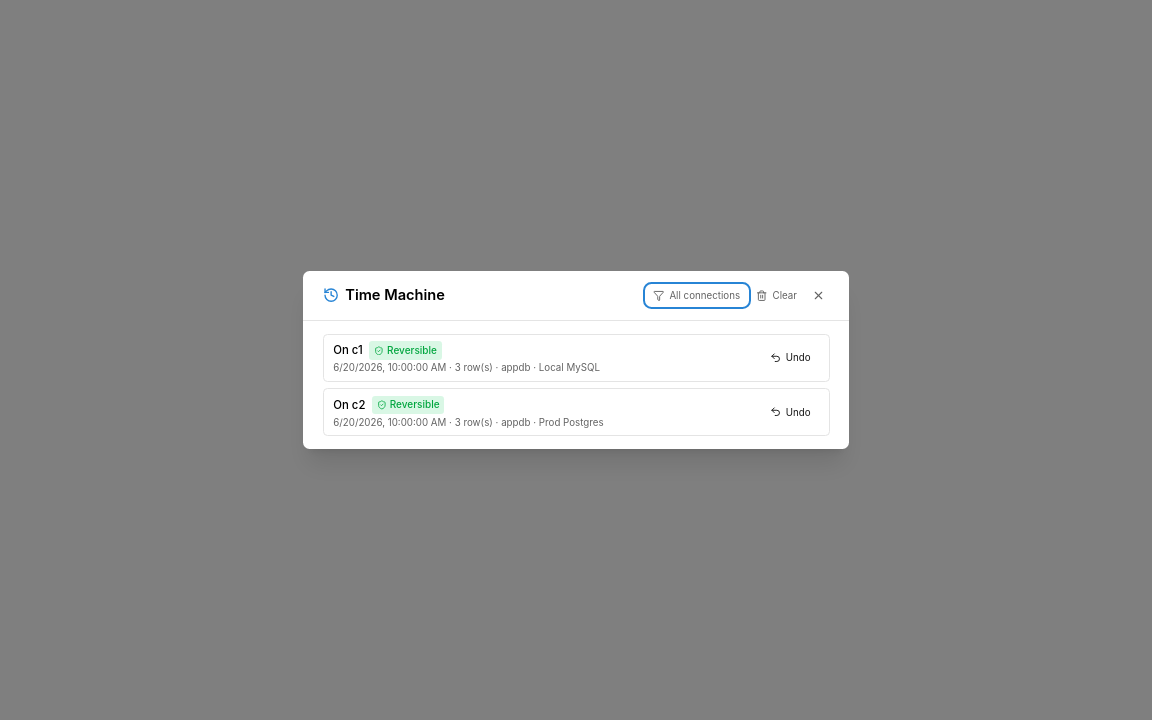
Test: TimelinePanel › filters entries to the chosen connection via the filter dropdown
expect the text "On c1" is shown: met, box x1=333 y1=342 x2=363 y2=359
expect the text "On c2" is shown: met, box x1=333 y1=397 x2=365 y2=413
Note: Open the connection filter dropdown and pick Prod Postgres (c2).
Click the button with aria-label "Filter by connection": click(697, 295) x1=647 y1=286 x2=746 y2=305
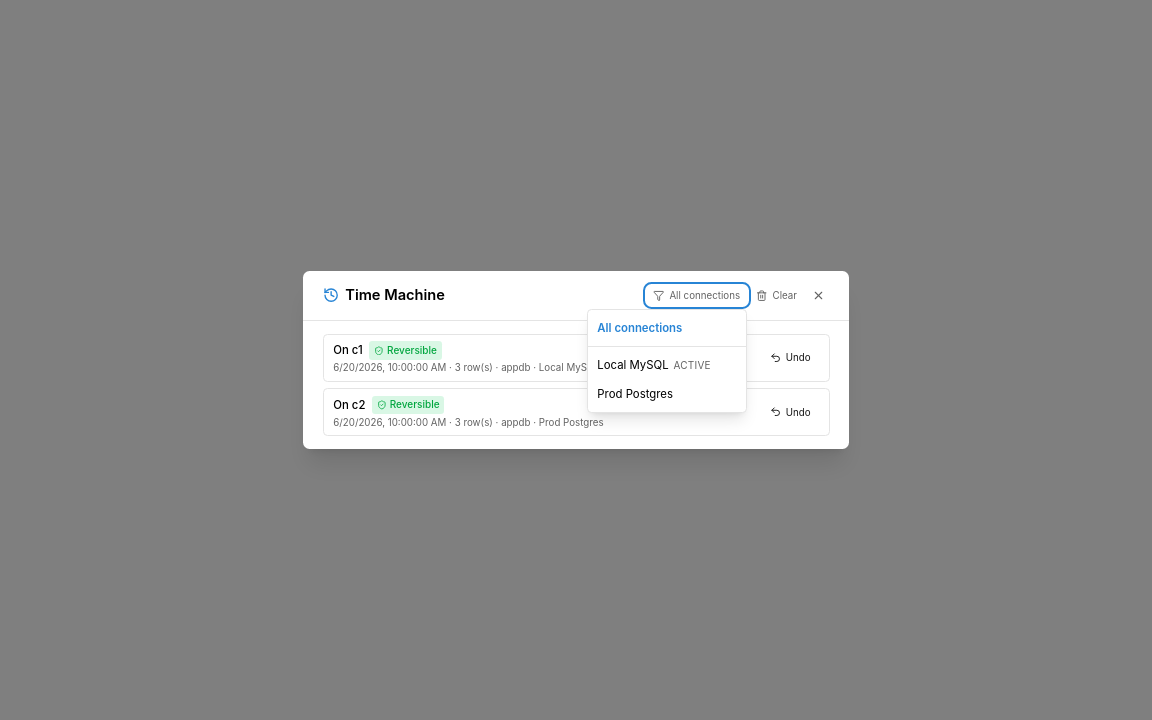
Click the menu item "Prod Postgres": click(667, 394) x1=588 y1=379 x2=746 y2=409
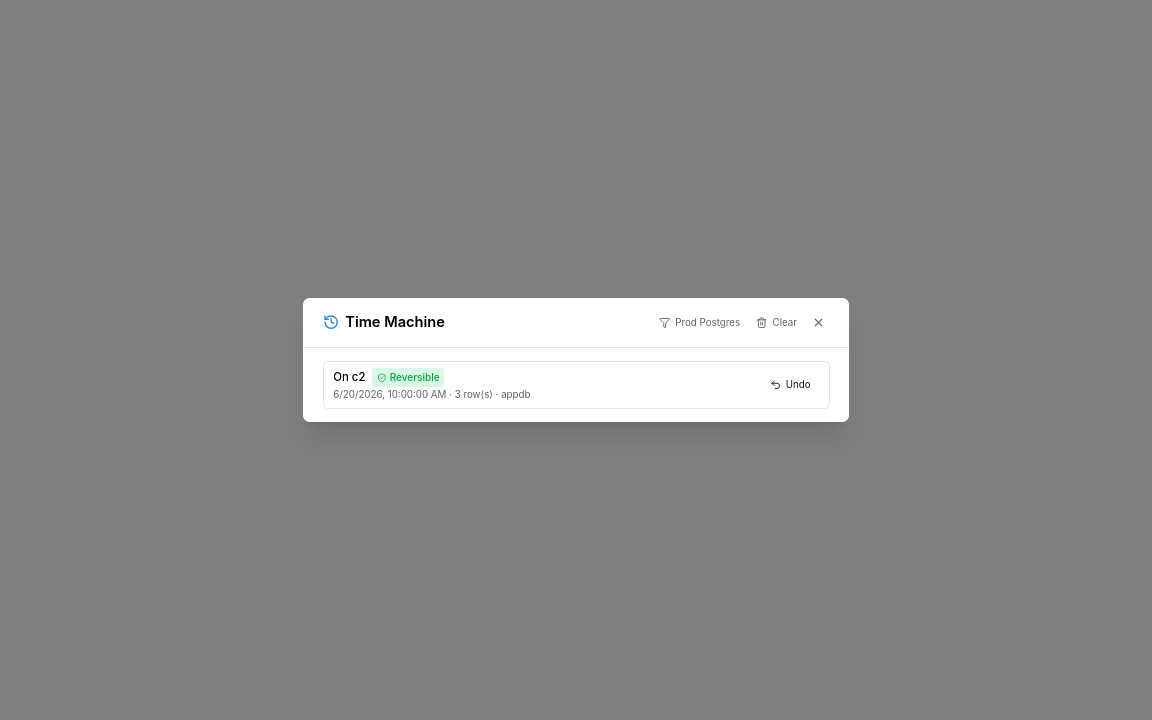
expect the text "On c2" is shown: met, box x1=333 y1=369 x2=365 y2=386
expect the text "On c1" is gone: met
